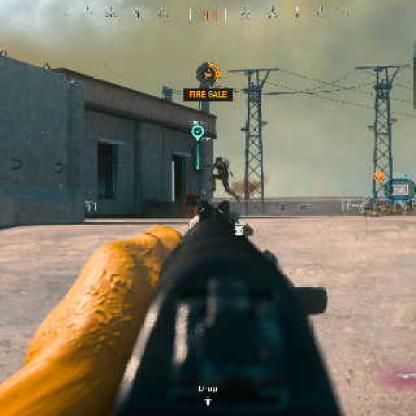enemy: (211, 154, 235, 198)
